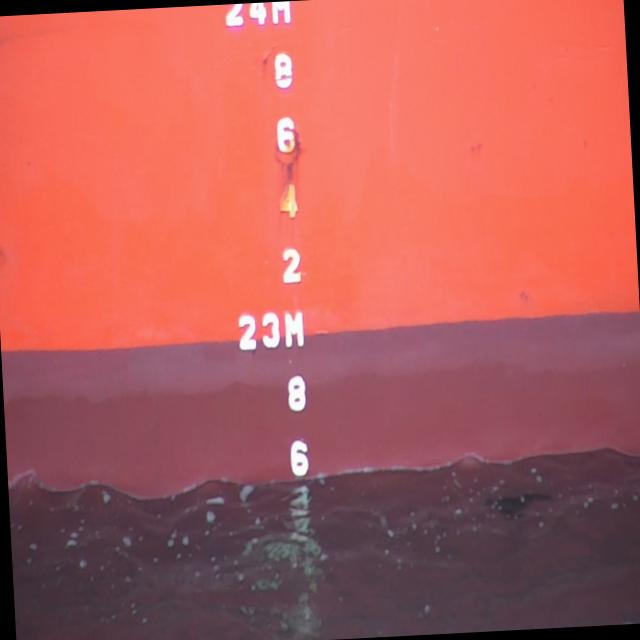Ship Draft Marks: (289, 440, 309, 478), (279, 183, 299, 220), (277, 116, 296, 154), (288, 376, 308, 412), (284, 312, 304, 348), (274, 53, 294, 89), (238, 314, 257, 351), (282, 248, 302, 283), (262, 312, 280, 348), (248, 2, 266, 26), (224, 4, 243, 26), (272, 1, 290, 24)
